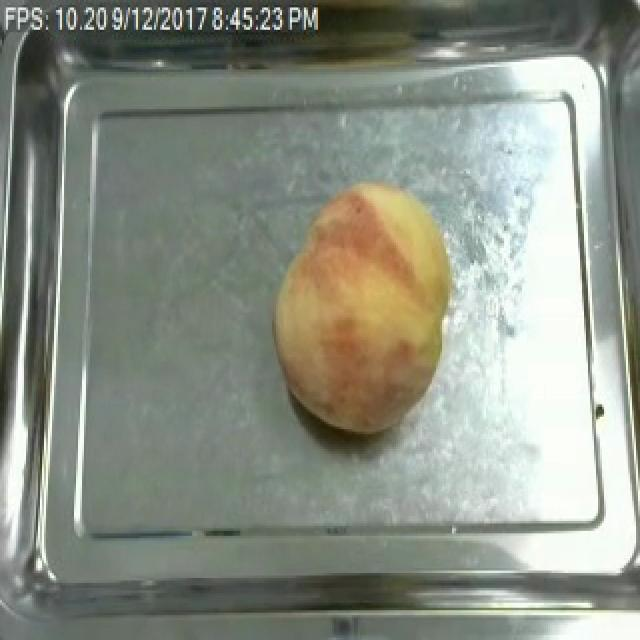Fruit: (264, 174, 460, 439)
